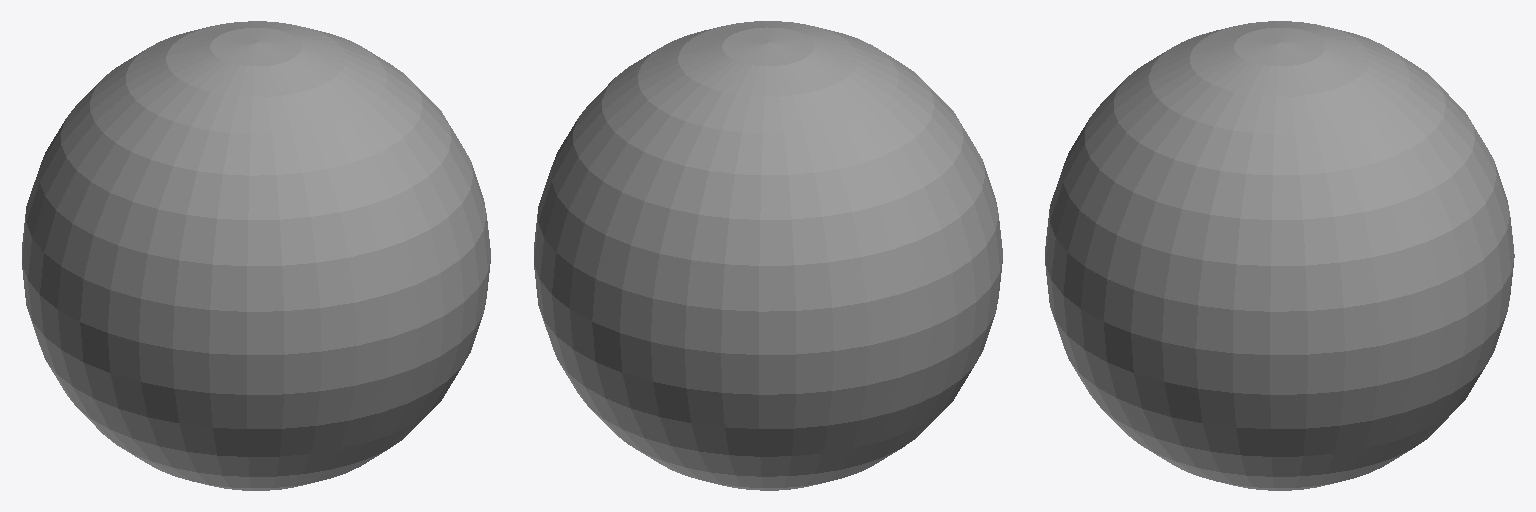
Rendered from planeterouge.obj.
The picture shows the model from 3 angles: view 1: azimuth 30°, elevation 25°; view 2: azimuth 150°, elevation 25°; view 3: azimuth 270°, elevation 25°; orthographic projection.
Visible parts, largest first — view 1: Sphere_Sphere.001; view 2: Sphere_Sphere.001; view 3: Sphere_Sphere.001.
Part boxes in pixels (x1,y1,x2,y2): Sphere_Sphere.001: (22, 21, 490, 490); Sphere_Sphere.001: (534, 21, 1002, 490); Sphere_Sphere.001: (1045, 21, 1514, 490).
Size of the model in its own units: 2 by 2 by 2.